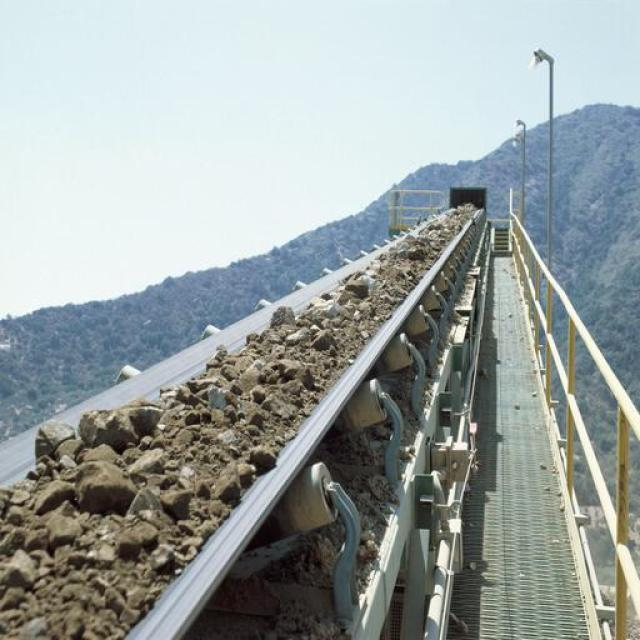conveyor: (1, 202, 489, 640)
